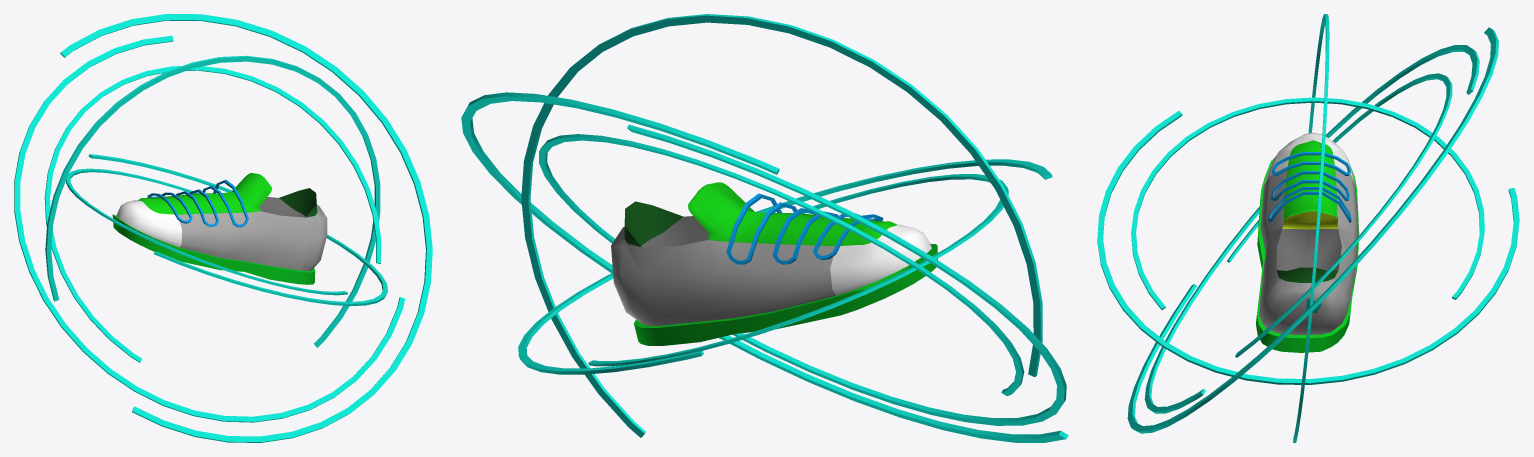
Rendered from W_O_Neonsign_005.fbx.
3 renders of one model, left to right at view 1: azimuth 30°, elevation 25°; view 2: azimuth 150°, elevation 25°; view 3: azimuth 270°, elevation 25°, orthographic. The views are drawn at different scales.
Parts seen in each view (by area): view 1: W_O_Neonsign_005; view 2: W_O_Neonsign_005; view 3: W_O_Neonsign_005.
Boxes of the visible parts, x1,y1,x2,y2 form: W_O_Neonsign_005: (14,14,432,442); W_O_Neonsign_005: (461,14,1068,442); W_O_Neonsign_005: (1097,14,1519,442).
Size of the model in its own units: 0.9457 by 0.7661 by 0.801.
